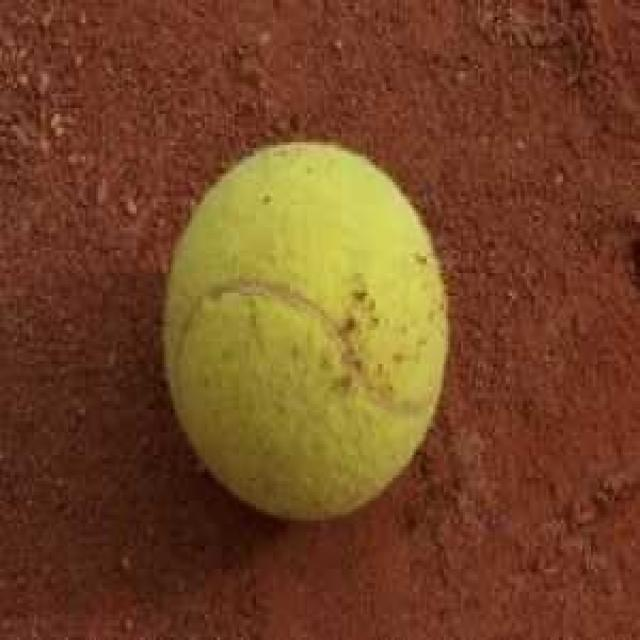Tennis_Ball: (159, 141, 448, 521)
